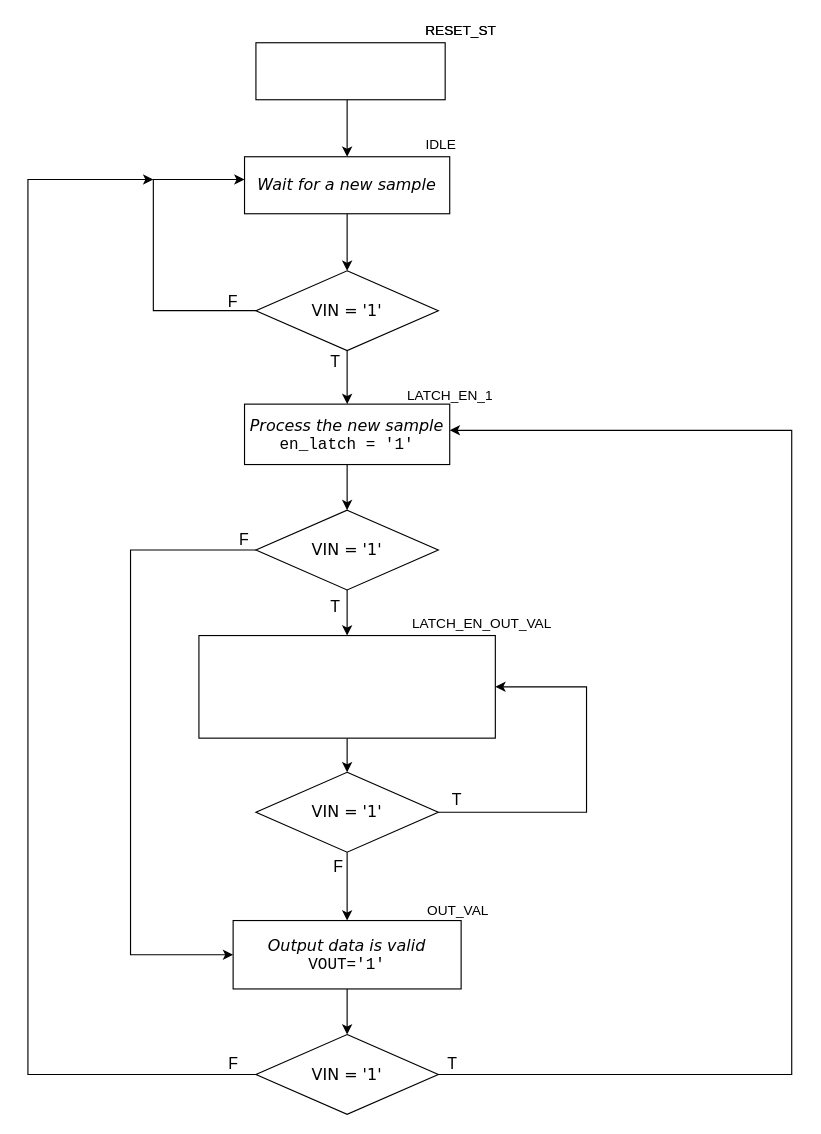
Some shapes in this 821 by 1134 pixel diagram are drawn without their labels. Here are the shapes that lost their labels. From the top down, the box of each, then its label:
(255, 42, 445, 100): Clear data registers clr_w_regs = '1'
(198, 634, 495, 738): Output data is valid VOUT='1' Process a new incoming sample en_latch='1'
